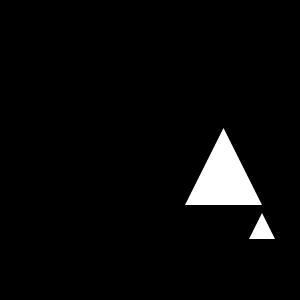triangle: (185, 128, 262, 205), (249, 213, 275, 239)
